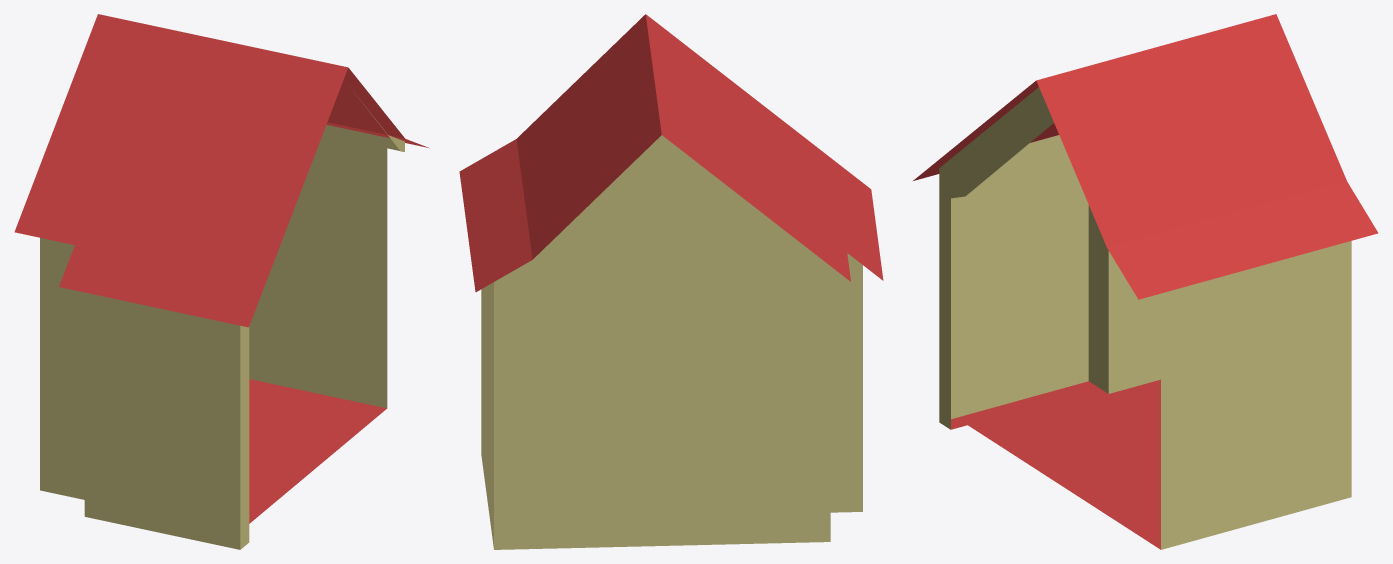
3 views of the same model, side by side, from view 1: azimuth 30°, elevation 25°; view 2: azimuth 150°, elevation 25°; view 3: azimuth 270°, elevation 25° (orthographic). The views are drawn at different scales.
Size of the model in its own units: 18.06 by 17.84 by 17.71.
